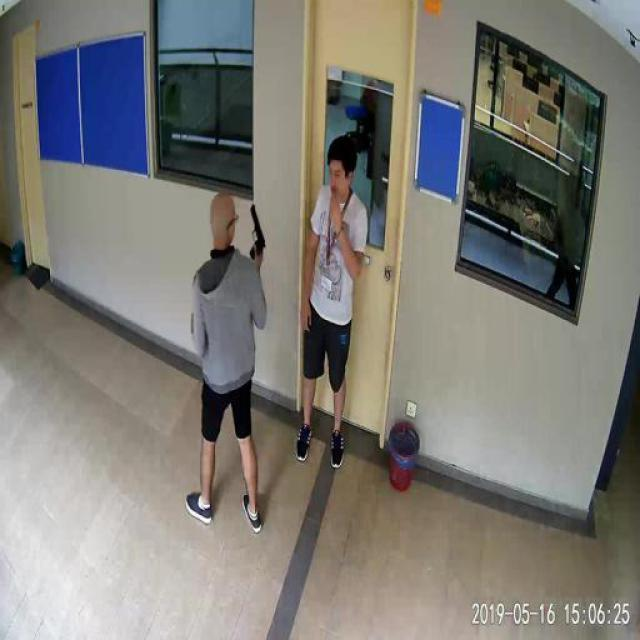weapon: (242, 202, 270, 260)
